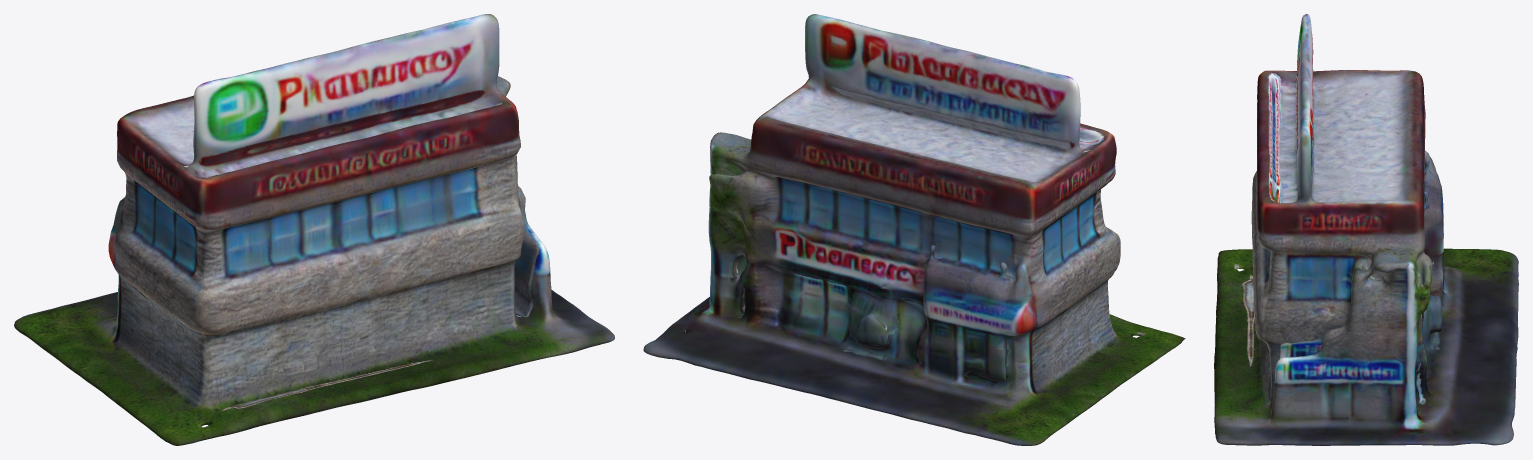
File: pharmacy1.glb
The picture shows the model from 3 angles, left to right: view 1: azimuth 30°, elevation 25°; view 2: azimuth 150°, elevation 25°; view 3: azimuth 270°, elevation 25°; orthographic projection. The views are drawn at different scales.
Visible parts, largest first — view 1: mesh; view 2: mesh; view 3: mesh.
Boxes of the visible parts, x1,y1,x2,y2 form: mesh: (14,14,614,445); mesh: (643,14,1185,445); mesh: (1214,14,1518,445).
Size of the model in its own units: 0.9961 by 0.6811 by 0.6643.
1 material, 1 textured.
